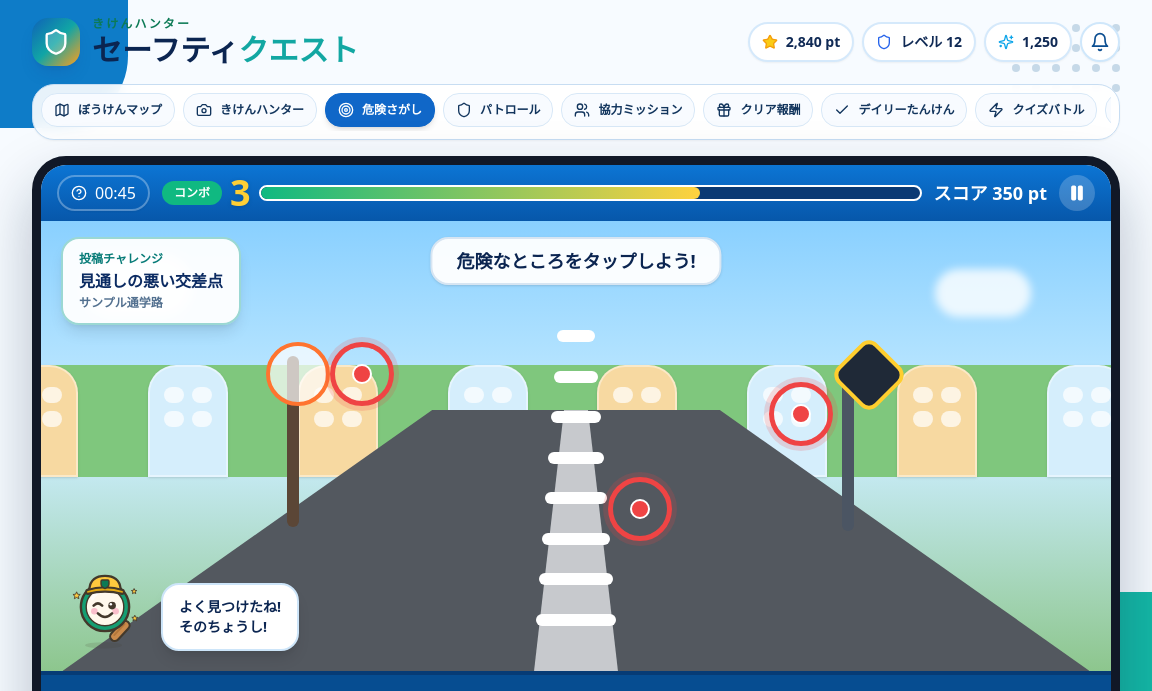
SafetyQuestClient › keeps wrong quiz answers in the quiz flow and lets the player retry instead of opening rewards
Earlier steps of the test are not shown.
expect the text "危険なところをタップしよう!" is shown: met, box [430,237,722,285]
What coordinates should you click on to do the following:
click the 1st button named "危険ポイント"
I would click on:
 (362, 374)
Its box is [330,342,394,406].
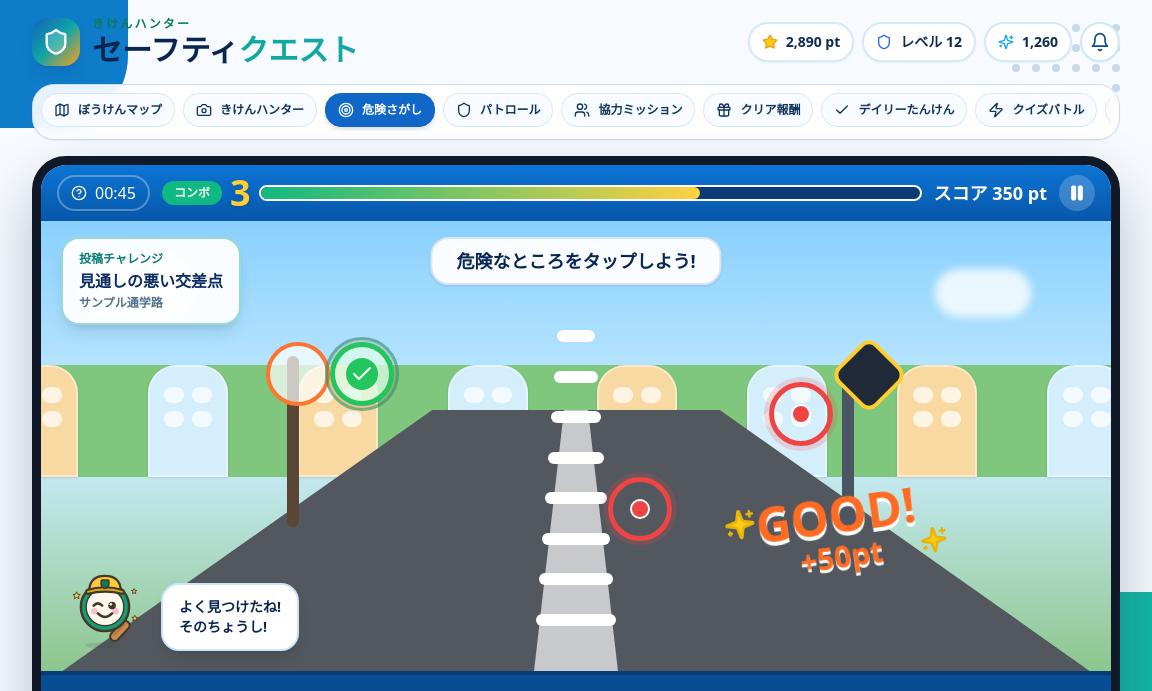
What coordinates should you click on to do the following:
click the 2nd button named "危険ポイント"
I would click on:
 (801, 414)
Its box is [769,382,833,446].
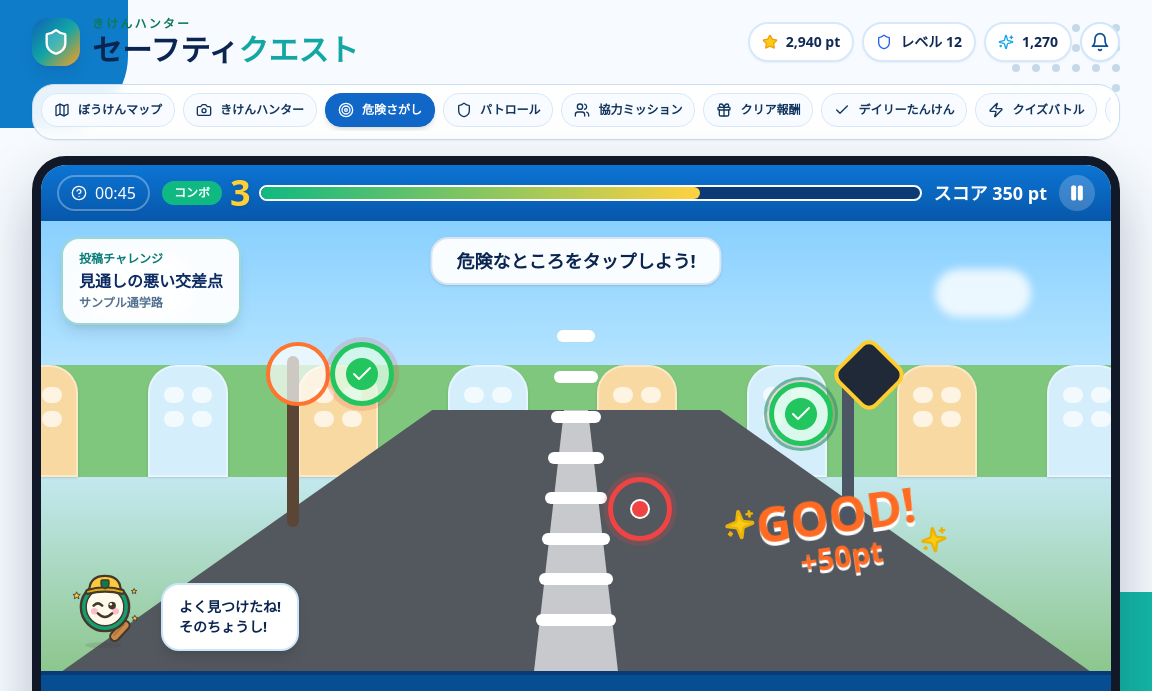
What coordinates should you click on to do the following:
click the 3rd button named "危険ポイント"
I would click on:
 (640, 509)
Its box is [608,477,672,541].
(page scrolled)
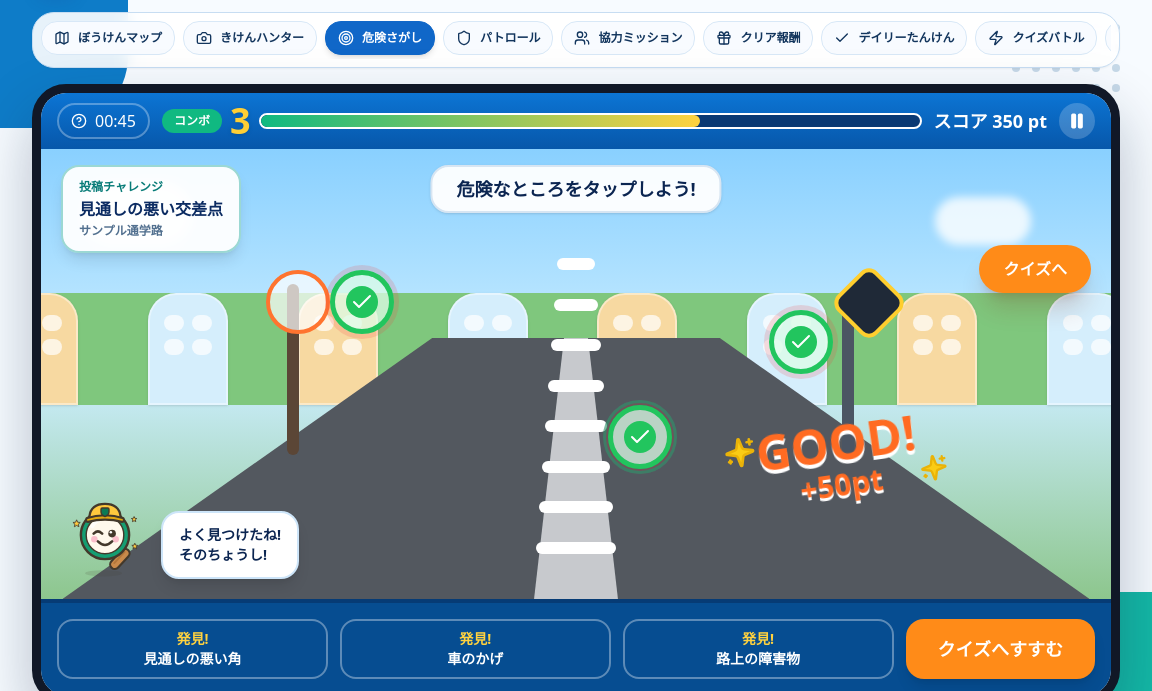
What coordinates should you click on to do the following:
click the button "クイズへすすむ"
I would click on:
 (1000, 649)
Its box is [906,619,1095,679].
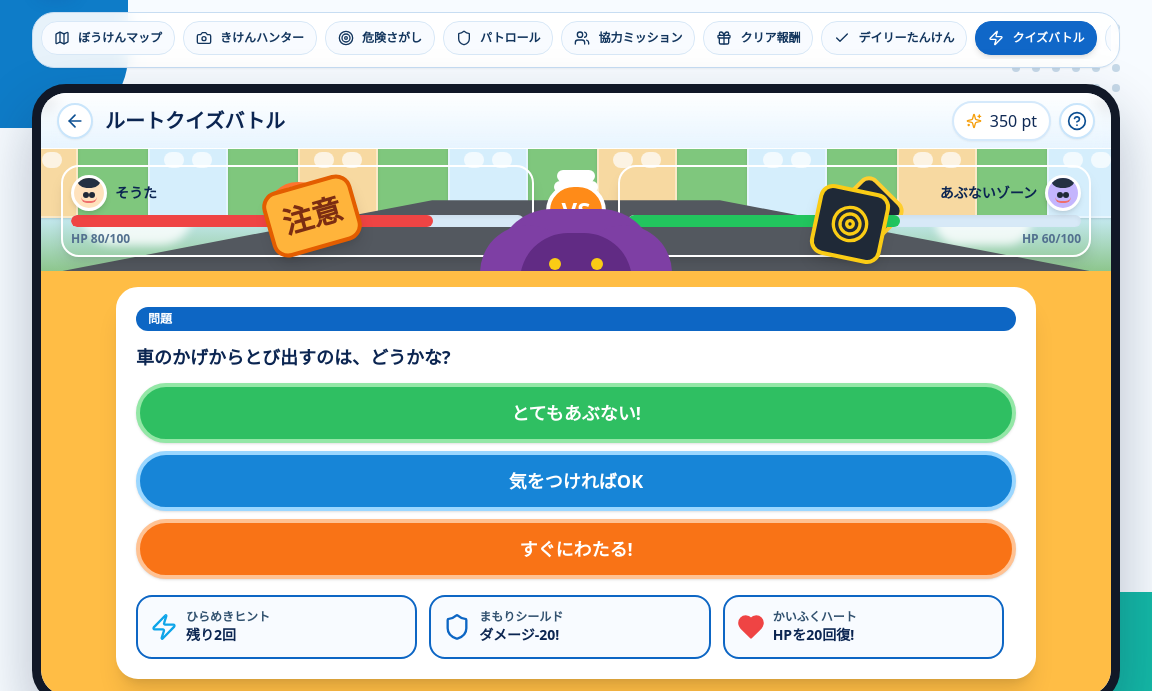
What coordinates should you click on to do the following:
click the button "すぐにわたる!"
I would click on:
 (576, 549)
Its box is [136,519,1016,579].
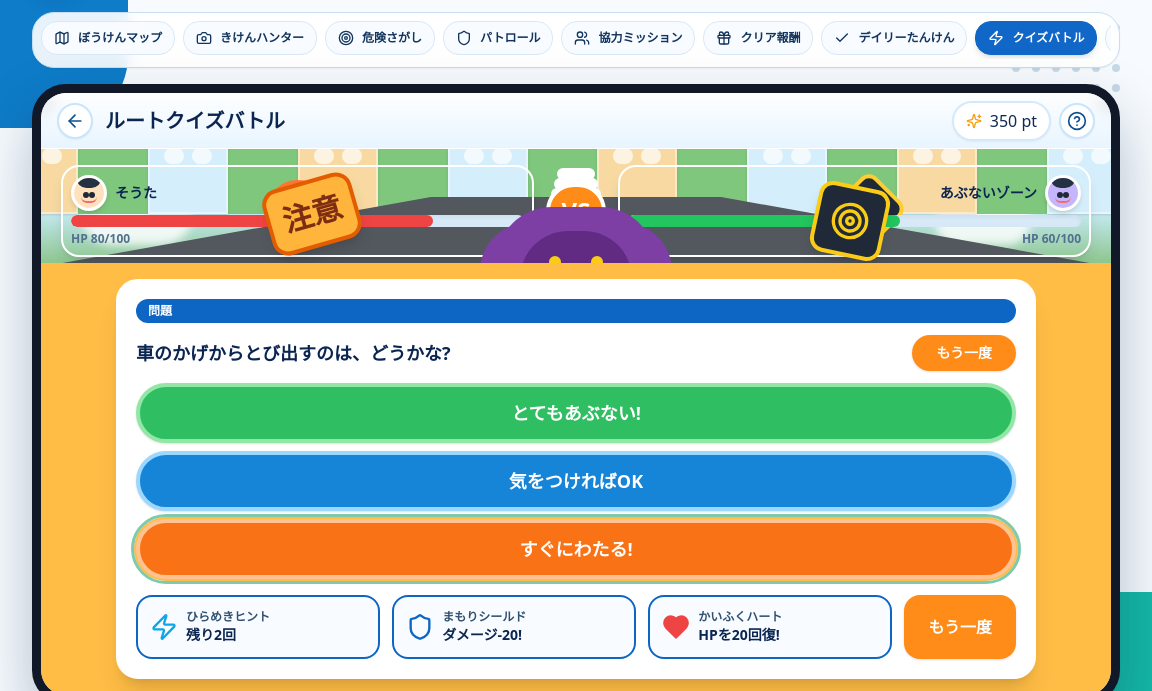
What coordinates should you click on to do the following:
click the button "もう一度" in the row of "車のかげからとび出すのは、どうかな?"
I would click on:
 (964, 353)
Its box is [912,335,1016,371].
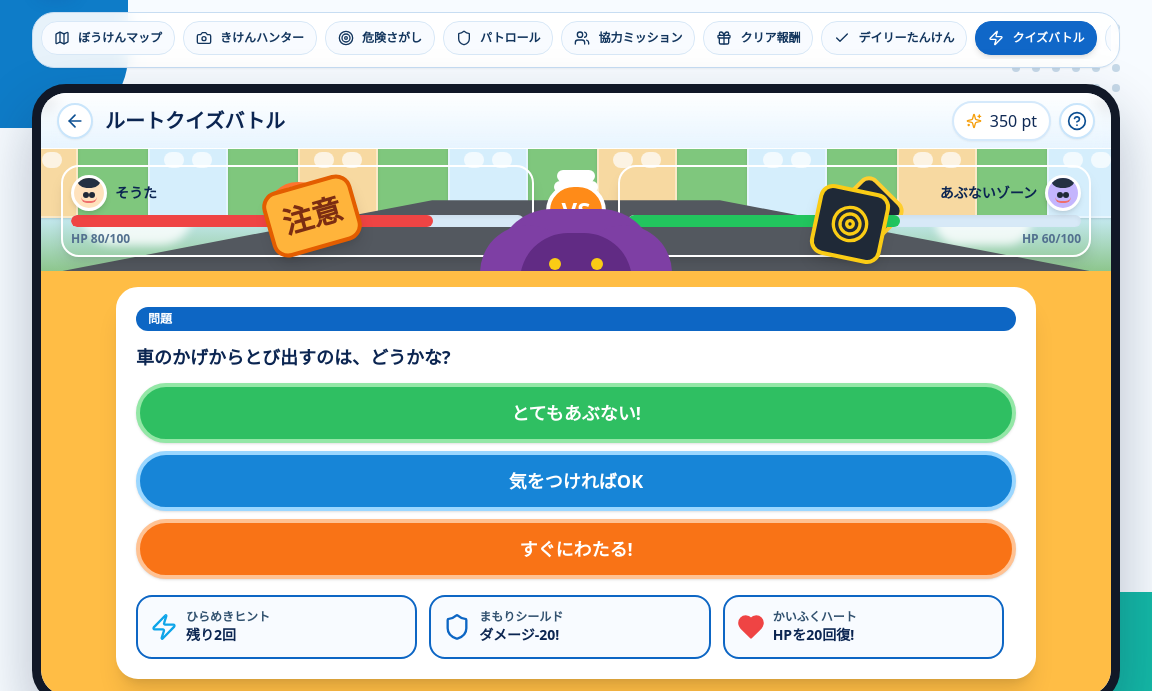
expect the heading "ルートクイズバトル" is shown: met, box [105,106,285,134]
expect the button "もう一度" is gone: met
